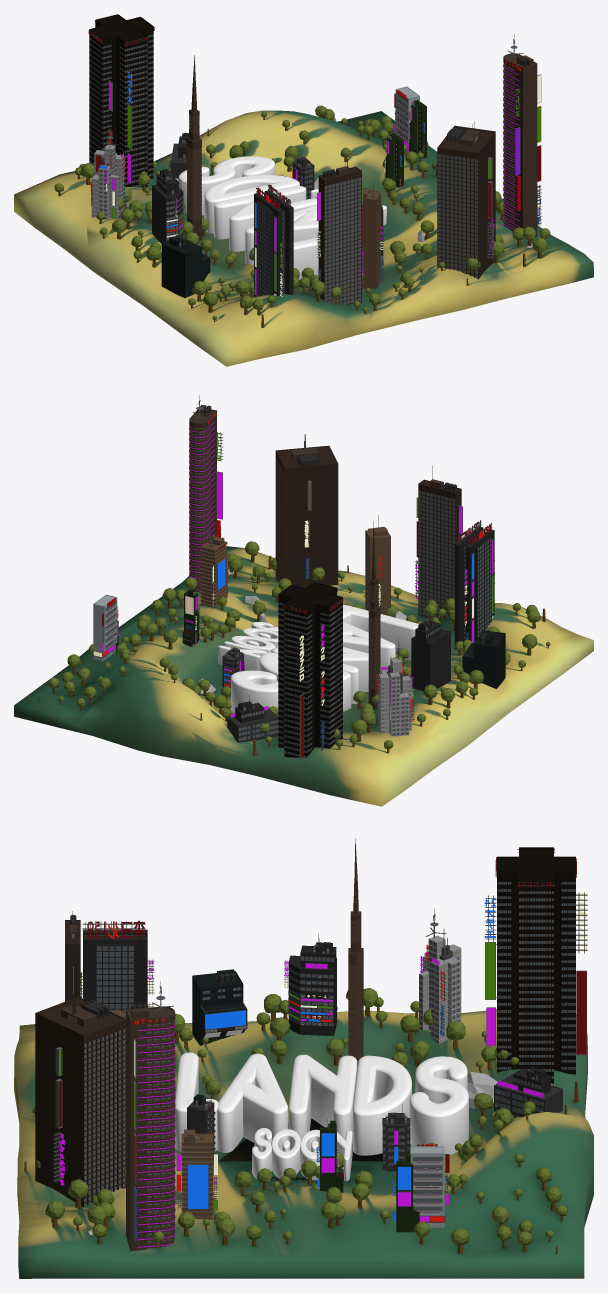
Rendered from starter-scene.glb.
The picture shows the model from 3 angles, top to bottom: view 1: azimuth 30°, elevation 25°; view 2: azimuth 150°, elevation 25°; view 3: azimuth 270°, elevation 25°; orthographic projection. The views are drawn at different scales.
Parts seen in each view (by area): view 1: Floor, Trees, Building_15.001, Building_14.002, Typo 9.001, Building_13.001, Building_14.001, Building_12.001, Building_02.001, Building_06.001, Building_01.001, Building_07.001 (+6 smaller); view 2: Floor, Trees, Building_15.001, Building_14.002, Typo 9.001, Building_14.001, Building_13.001, Building_12.001, Building_06.001, Building_01.001, Building_02.001, Building_07.001 (+7 smaller); view 3: Floor, Building_15.001, Typo 9.001, Building_14.002, Trees, Building_13.001, Building_12.001, Building_01.001, Building_06.001, Building_02.001, Building_08.001, Typo 9 (+9 smaller).
Part boxes in pixels (box(x1,y1,x2,y2)): Floor: box(14, 110, 593, 366); Trees: box(54, 105, 550, 327); Building_15.001: box(88, 14, 154, 186); Building_14.002: box(437, 121, 495, 279); Typo 9.001: box(178, 156, 318, 279); Building_13.001: box(503, 34, 541, 236); Building_14.001: box(316, 152, 364, 304); Building_12.001: box(253, 184, 293, 296); Building_02.001: box(161, 235, 210, 297); Building_06.001: box(90, 126, 125, 219); Building_01.001: box(152, 166, 183, 243); Building_07.001: box(362, 181, 384, 288); Floor: box(14, 546, 593, 806); Trees: box(38, 541, 550, 755); Building_15.001: box(277, 582, 343, 759); Building_14.002: box(275, 434, 338, 587); Typo 9.001: box(230, 605, 418, 712); Building_14.001: box(415, 465, 462, 618); Building_13.001: box(189, 395, 223, 592); Building_12.001: box(454, 520, 494, 649); Building_06.001: box(375, 637, 414, 736); Building_01.001: box(411, 617, 450, 690); Building_02.001: box(462, 630, 505, 688); Building_07.001: box(365, 515, 390, 615); Floor: box(14, 1010, 593, 1278); Building_15.001: box(484, 847, 587, 1084); Typo 9.001: box(174, 1052, 468, 1156); Building_14.002: box(35, 994, 125, 1207); Trees: box(24, 988, 579, 1253); Building_13.001: box(126, 981, 175, 1250); Building_12.001: box(80, 920, 154, 1012); Building_01.001: box(284, 933, 336, 1036); Building_06.001: box(419, 908, 461, 1043); Building_02.001: box(192, 969, 247, 1045); Building_08.001: box(176, 1119, 217, 1219); Typo 9: box(252, 1128, 352, 1181).
Bounding box in the file's own units: 65.14 × 35.47 × 66.38.
Materials: 18 (8 with a texture image).
